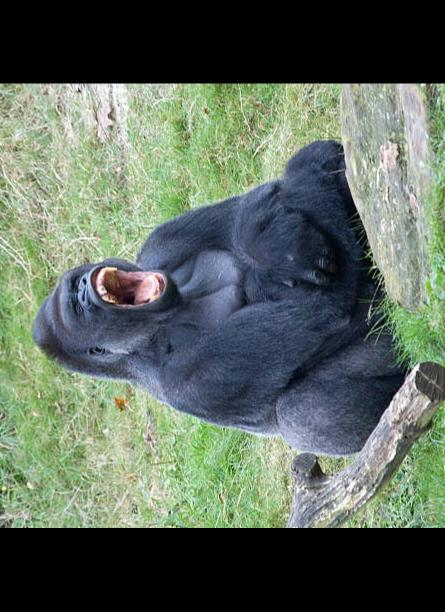gorille_Autres: (0, 105, 408, 450)
